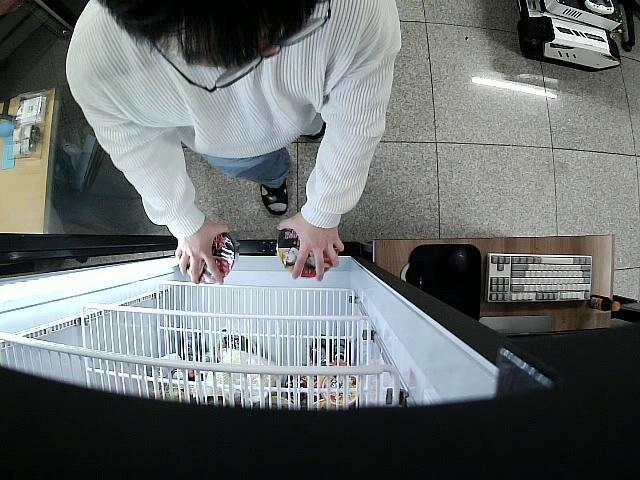07_buldak_L: (273, 226, 332, 278), (200, 233, 236, 283)
